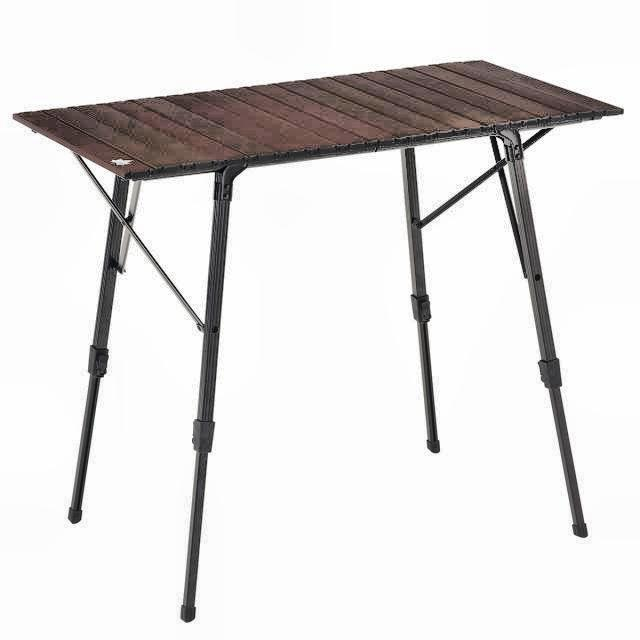mesa: (8, 54, 632, 625)
